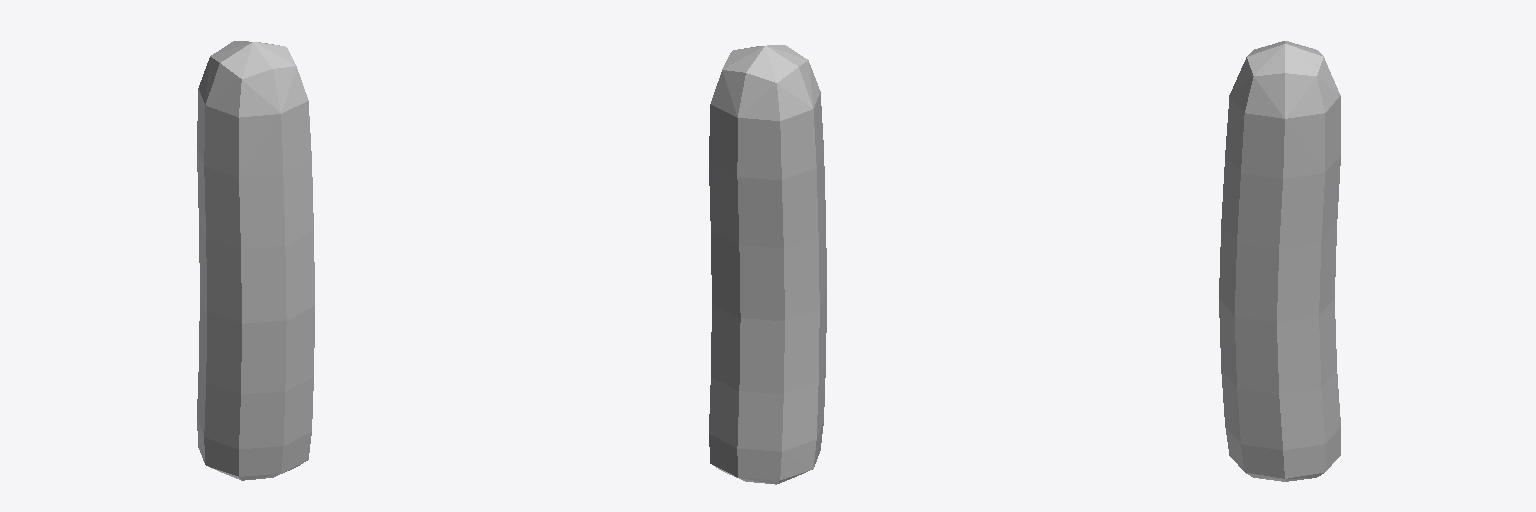
The model's file is CowLeg.obj.
The picture shows the model from 3 angles: view 1: azimuth 30°, elevation 25°; view 2: azimuth 150°, elevation 25°; view 3: azimuth 270°, elevation 25°; orthographic projection.
Visible parts, largest first — view 1: Cube.001_Cube.016; view 2: Cube.001_Cube.016; view 3: Cube.001_Cube.016.
Part boxes in pixels (left/top/right/bottom): Cube.001_Cube.016: left=197, top=41, right=314, bottom=480; Cube.001_Cube.016: left=709, top=45, right=826, bottom=484; Cube.001_Cube.016: left=1219, top=41, right=1340, bottom=481.
Bounding box in the file's own units: 0.0385 × 0.1556 × 0.0406.